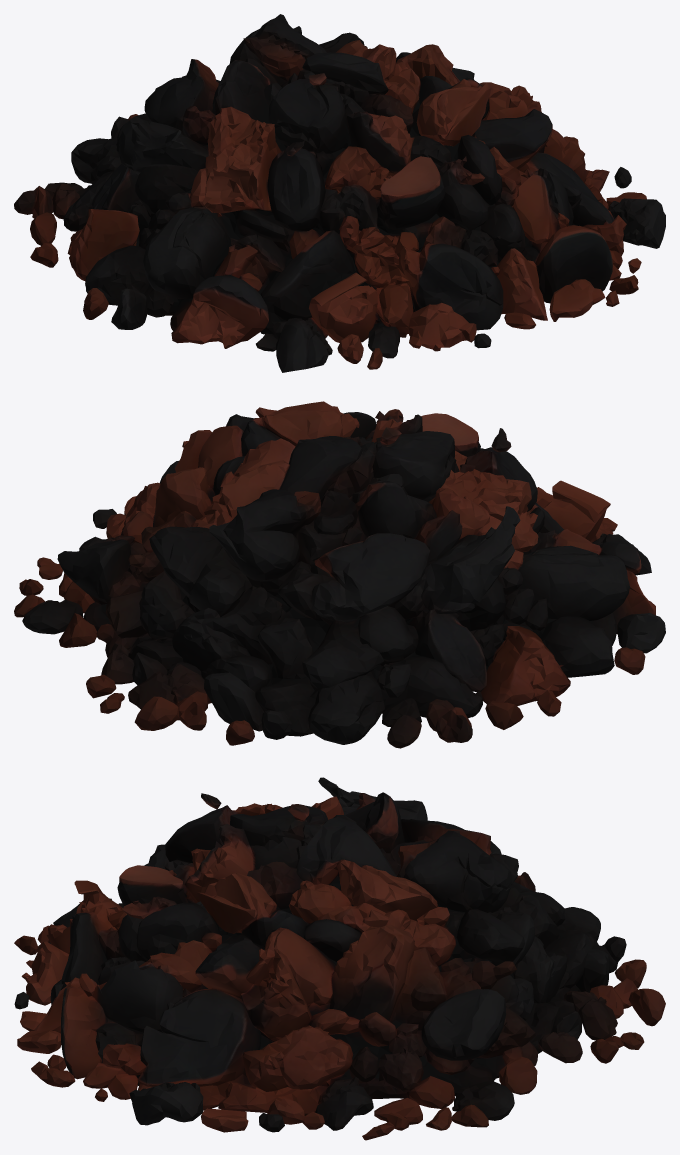
File: lod_basic_pbr.fbx
The picture shows the model from 3 angles, top to bottom: view 1: azimuth 30°, elevation 25°; view 2: azimuth 150°, elevation 25°; view 3: azimuth 270°, elevation 25°; orthographic projection. The views are drawn at different scales.
Parts seen in each view (by area): view 1: model_LOD0; view 2: model_LOD0; view 3: model_LOD0.
Part boxes in pixels (<box>): model_LOD0: <box>14,14,665,372</box>; model_LOD0: <box>14,401,665,748</box>; model_LOD0: <box>14,777,665,1140</box>.
Size of what is drawn, in the model's own units: 187 by 60.97 by 190.
Materials: 1 (1 with a texture image).
